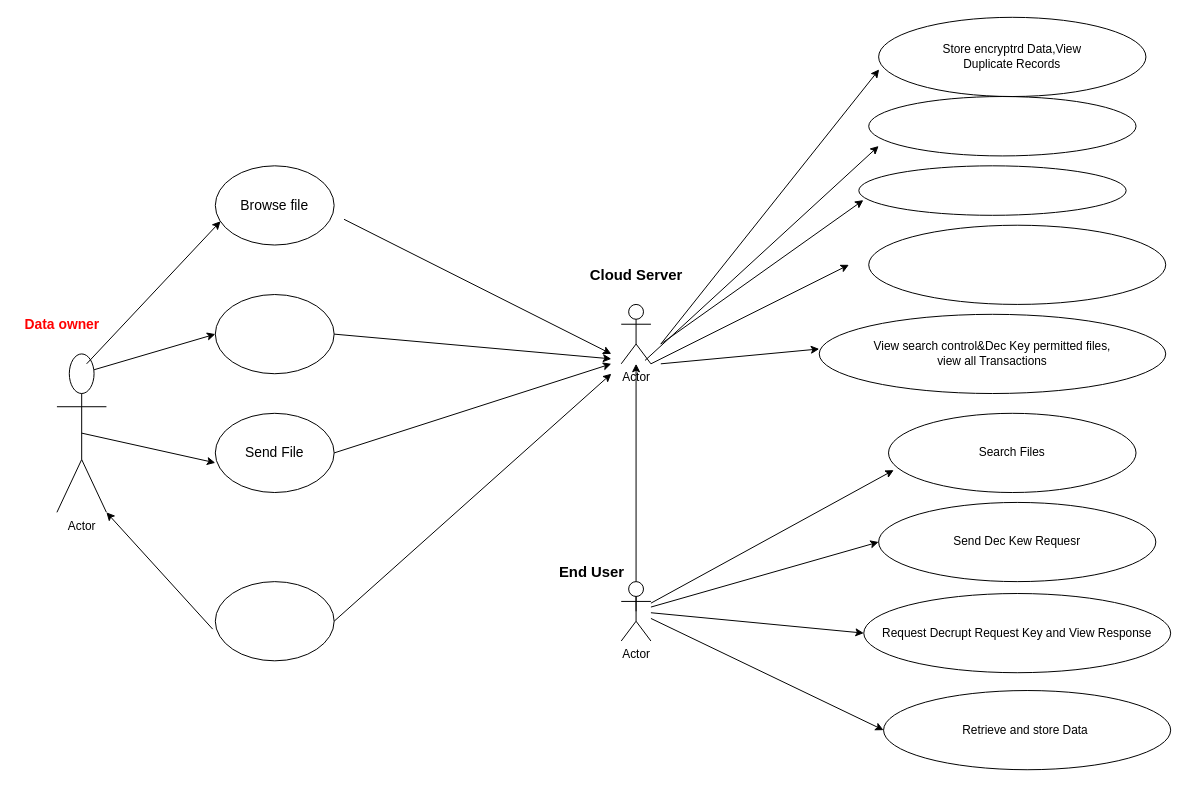
Image size: 1188x787. Some labels were removed from this diagram. Each missing label, with the centre of its shape:
"Encrypt File" goes at (274,334).
"Uplaod Response" goes at (274,621).
"View all data owners and End users and authorized user" goes at (1002,126).
"View Data User Key" goes at (1017,264).
"View owner files" goes at (992,190).
